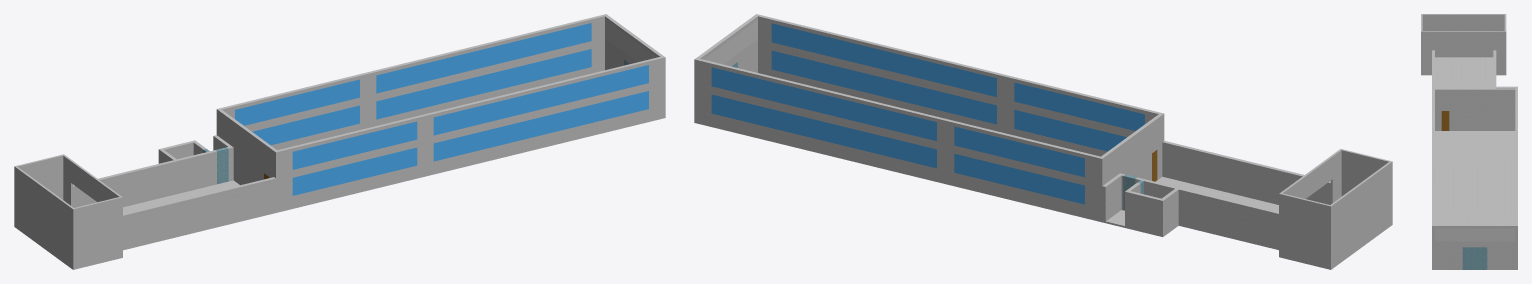
The model's file is Pump_Station_1_expansion.glb.
The picture shows the model from 3 angles, left to right: view 1: azimuth 30°, elevation 25°; view 2: azimuth 150°, elevation 25°; view 3: azimuth 270°, elevation 25°; orthographic projection. The views are drawn at different scales.
Visible parts, largest first — view 1: Floor1; view 2: Floor1; view 3: Floor1.
Boxes of the visible parts, bbox=[...] form: Floor1: bbox=[14, 14, 665, 269]; Floor1: bbox=[694, 14, 1392, 269]; Floor1: bbox=[1421, 14, 1517, 269].
Size of the model in its own units: 72.47 by 7 by 13.99.
Materials: 4 (4 with a texture image).
